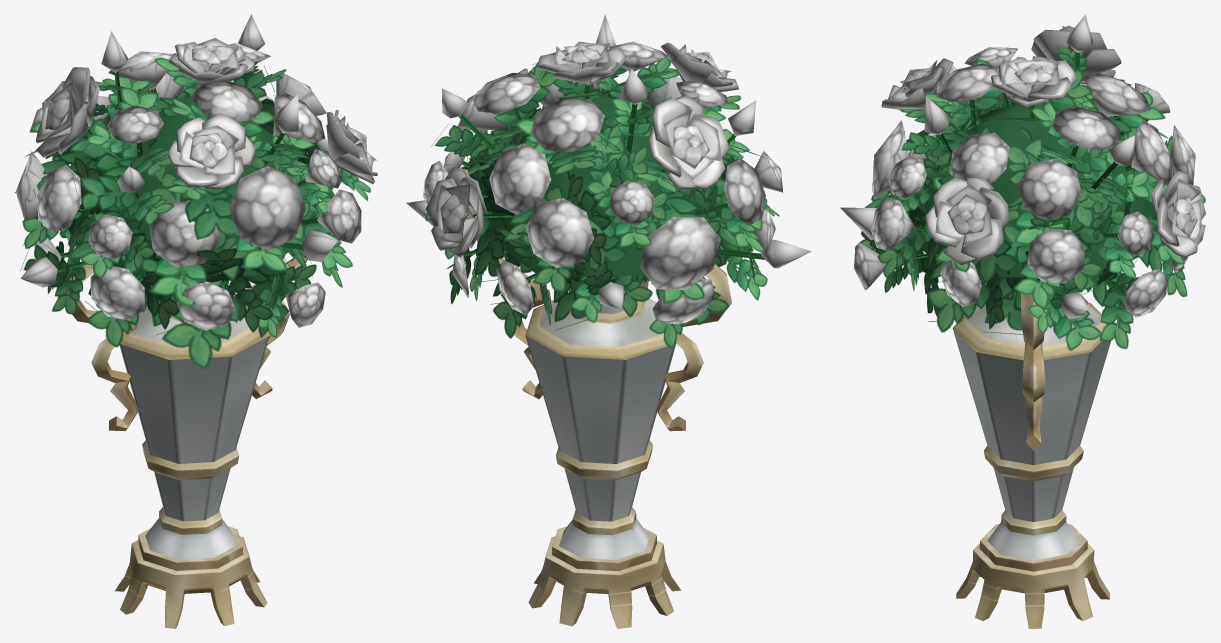
The model's file is my_teaparty_01_flowerpot_01.glb.
3 views of the same model, side by side, from view 1: azimuth 30°, elevation 25°; view 2: azimuth 150°, elevation 25°; view 3: azimuth 270°, elevation 25° (orthographic).
Parts seen in each view (by area): view 1: my_teaparty_01_flowerpot_01; view 2: my_teaparty_01_flowerpot_01; view 3: my_teaparty_01_flowerpot_01.
Boxes of the visible parts, bbox=[...] form: my_teaparty_01_flowerpot_01: bbox=[14, 14, 377, 628]; my_teaparty_01_flowerpot_01: bbox=[406, 14, 811, 628]; my_teaparty_01_flowerpot_01: bbox=[840, 14, 1205, 628].
Bounding box in the file's own units: 0.00572 × 0.00849 × 0.00507.
2 materials, 2 textured.
